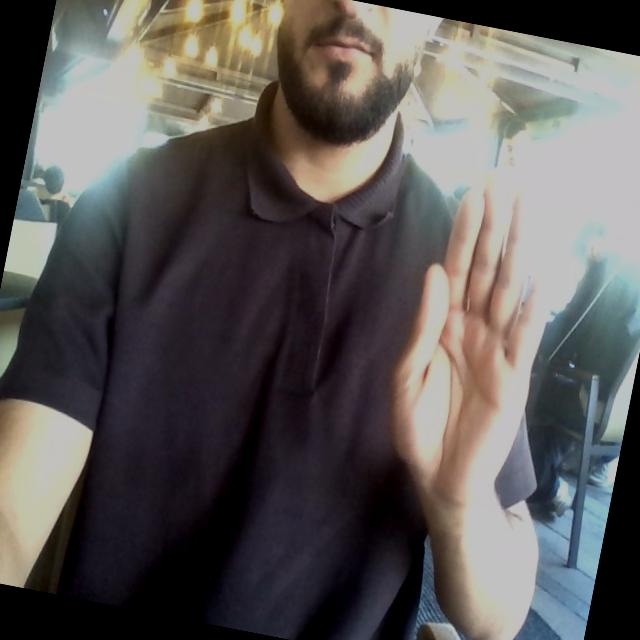Hand: (392, 175, 544, 505)
